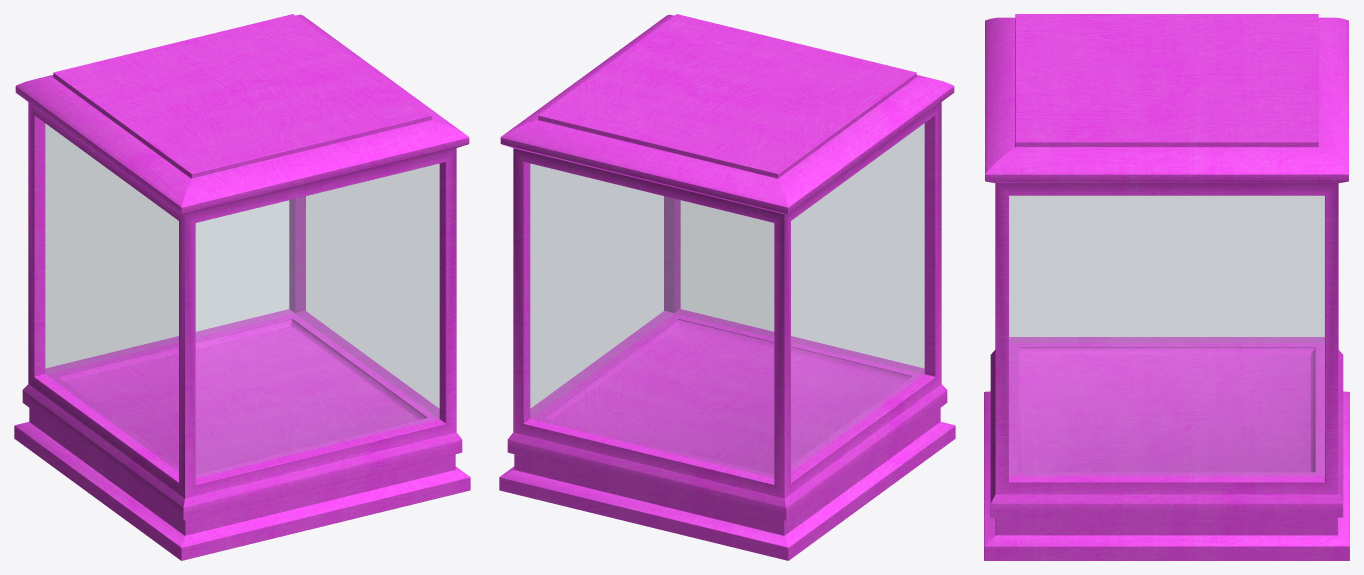
Rendered from Vitrine.fbx.
3 renders of one model, left to right at view 1: azimuth 30°, elevation 25°; view 2: azimuth 150°, elevation 25°; view 3: azimuth 270°, elevation 25°, orthographic. The views are drawn at different scales.
Parts seen in each view (by area): view 1: Vitrine_0, Glas_1; view 2: Vitrine_0, Glas_1; view 3: Vitrine_0, Glas_1.
Boxes of the visible parts, x1,y1,x2,y2 form: Vitrine_0: (14, 14, 470, 560); Glas_1: (45, 124, 439, 477); Vitrine_0: (499, 14, 955, 560); Glas_1: (530, 124, 924, 477); Vitrine_0: (984, 14, 1349, 560); Glas_1: (1009, 195, 1324, 475).
Bounding box in the file's own units: 213 × 261 × 213.
Materials: 2 (1 with a texture image).
